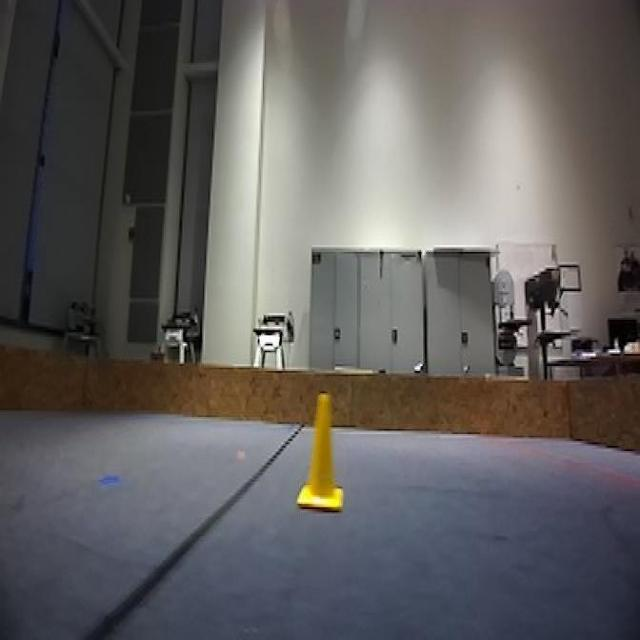frc_cone: (299, 388, 349, 509)
